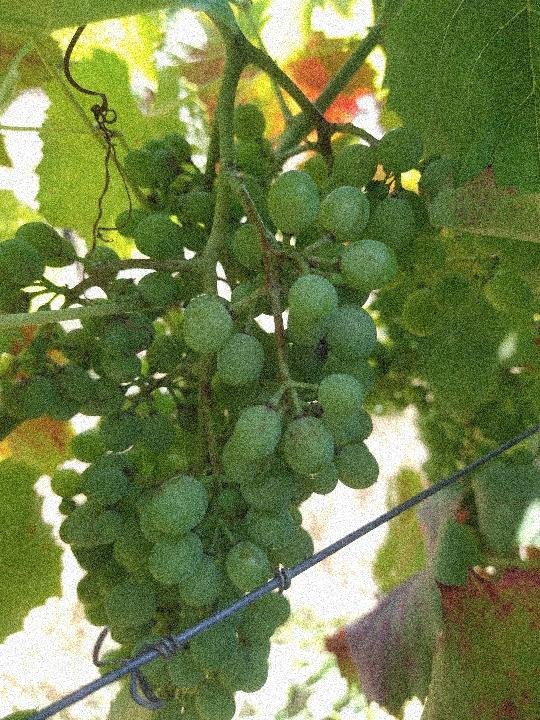grape: (6, 104, 475, 717)
